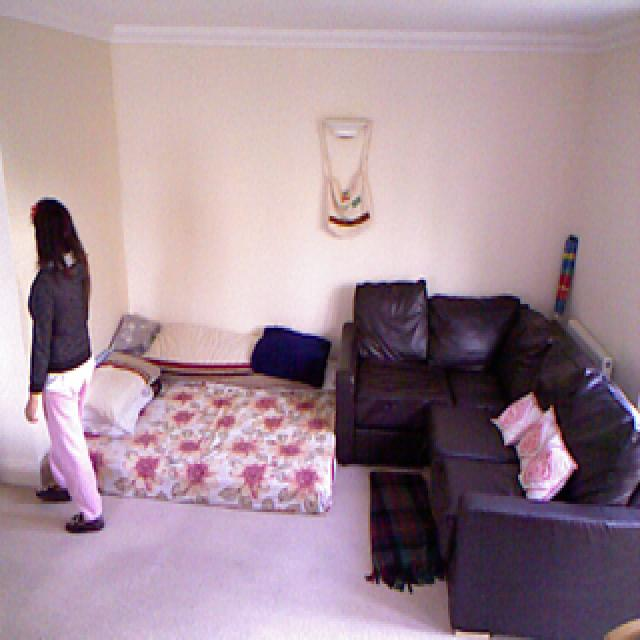standing: (24, 199, 108, 533)
